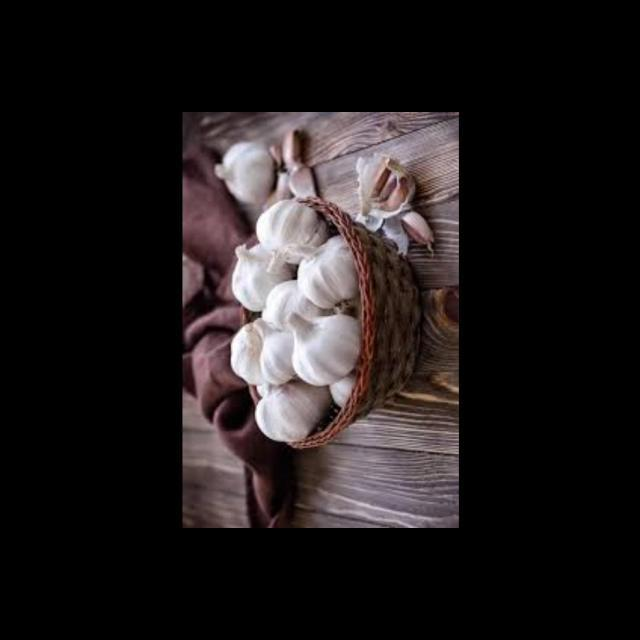garlic: (202, 191, 378, 459), (352, 148, 439, 256), (202, 132, 304, 216), (275, 130, 314, 198)
